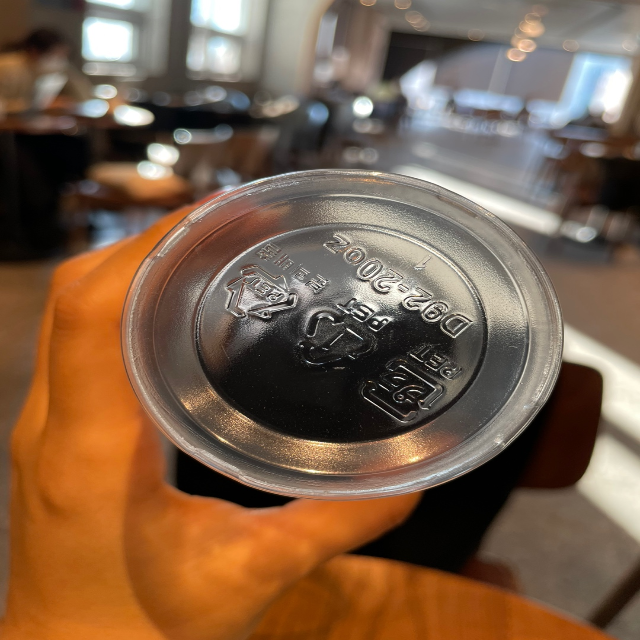pet: (218, 237, 329, 326), (356, 341, 466, 424), (297, 297, 388, 374)
